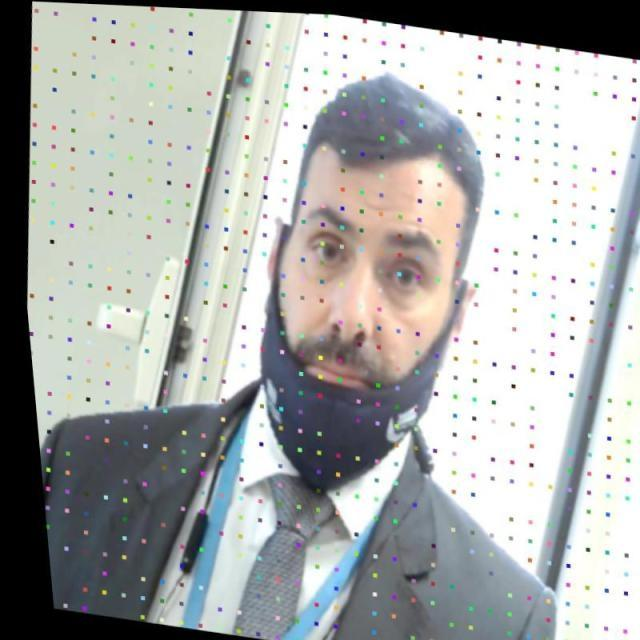hairnet: (232, 157, 488, 501)
